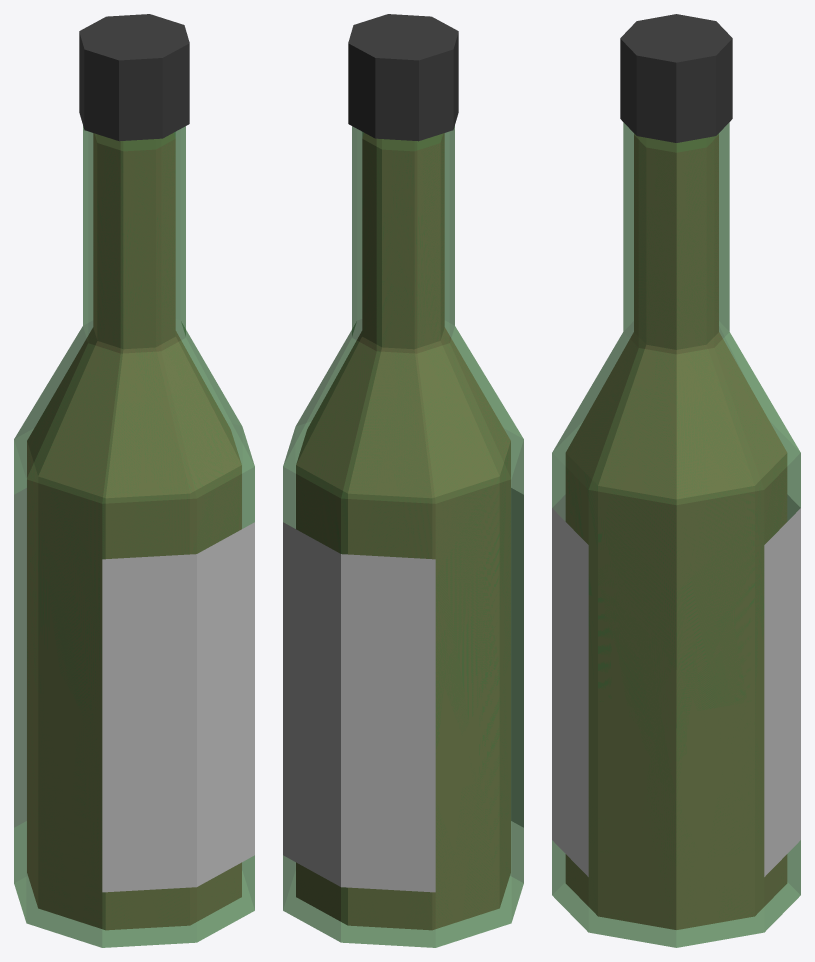
Rendered from Bottle.fbx.
3 renders of one model, left to right at view 1: azimuth 30°, elevation 25°; view 2: azimuth 150°, elevation 25°; view 3: azimuth 270°, elevation 25°, orthographic.
Parts seen in each view (by area): view 1: Bottle, Bottle Liquid 3, Bottle Liquid 2, Bottle Liquid 1, Bottle Lid, Bottle Liquid 4, Bottle Liquid 5; view 2: Bottle, Bottle Liquid 3, Bottle Liquid 2, Bottle Liquid 1, Bottle Lid, Bottle Liquid 5, Bottle Liquid 4; view 3: Bottle, Bottle Liquid 3, Bottle Liquid 2, Bottle Liquid 1, Bottle Liquid 4, Bottle Lid, Bottle Liquid 5.
Boxes of the visible parts, bbox=[...] form: Bottle: bbox=[14, 126, 254, 947]; Bottle Liquid 3: bbox=[27, 441, 241, 930]; Bottle Liquid 2: bbox=[27, 328, 241, 498]; Bottle Liquid 1: bbox=[93, 133, 175, 349]; Bottle Lid: bbox=[79, 14, 189, 141]; Bottle Liquid 4: bbox=[27, 672, 237, 929]; Bottle Liquid 5: bbox=[27, 858, 241, 929]; Bottle: bbox=[283, 126, 523, 947]; Bottle Liquid 3: bbox=[296, 441, 510, 930]; Bottle Liquid 2: bbox=[296, 328, 510, 498]; Bottle Liquid 1: bbox=[362, 133, 444, 349]; Bottle Lid: bbox=[348, 14, 458, 141]; Bottle Liquid 5: bbox=[296, 809, 510, 929]; Bottle Liquid 4: bbox=[299, 657, 510, 927]; Bottle: bbox=[552, 122, 800, 947]; Bottle Liquid 3: bbox=[565, 453, 787, 929]; Bottle Liquid 2: bbox=[566, 332, 786, 499]; Bottle Liquid 1: bbox=[634, 134, 718, 349]; Bottle Liquid 4: bbox=[567, 692, 785, 929]; Bottle Lid: bbox=[620, 14, 732, 142]; Bottle Liquid 5: bbox=[566, 843, 787, 929].
Bounding box in the file's own units: 56 × 213 × 56.
